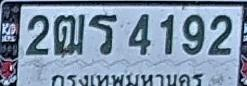1: (160, 14, 174, 54)
2: (208, 14, 232, 54), (26, 14, 49, 55)
4: (128, 13, 150, 54)
9: (182, 14, 204, 54)
A18: (53, 14, 85, 56)
A35: (89, 13, 117, 54)
BKK: (49, 70, 206, 86)
